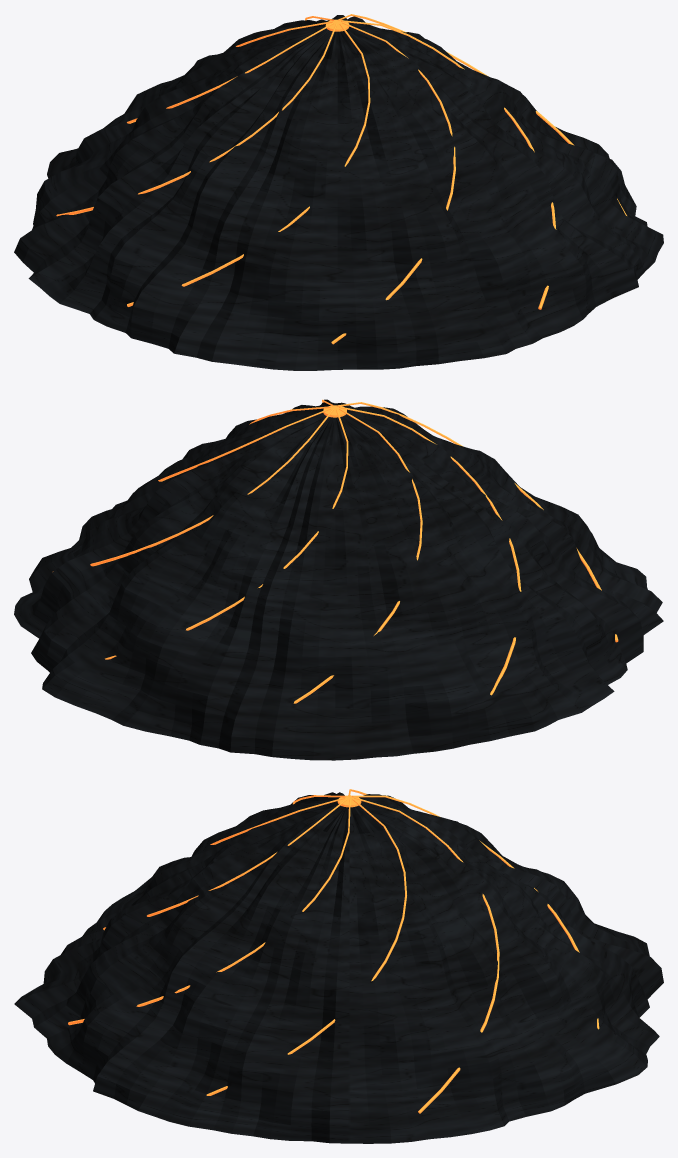
The model's file is volcano-lod0.glb.
The picture shows the model from 3 angles, top to bottom: view 1: azimuth 30°, elevation 25°; view 2: azimuth 150°, elevation 25°; view 3: azimuth 270°, elevation 25°; orthographic projection.
Visible parts, largest first — view 1: BasaltStratovolcano, CinematicBatch_lava; view 2: BasaltStratovolcano, CinematicBatch_lava; view 3: BasaltStratovolcano, CinematicBatch_lava.
Part boxes in pixels (bbox=[...]): BasaltStratovolcano: bbox=[14, 15, 663, 370]; CinematicBatch_lava: bbox=[56, 14, 626, 344]; BasaltStratovolcano: bbox=[14, 399, 663, 760]; CinematicBatch_lava: bbox=[53, 399, 618, 703]; BasaltStratovolcano: bbox=[14, 792, 663, 1143]; CinematicBatch_lava: bbox=[68, 789, 599, 1113].
Bounding box in the file's own units: 135 × 52.3 × 138.
Materials: 2 (1 with a texture image).
